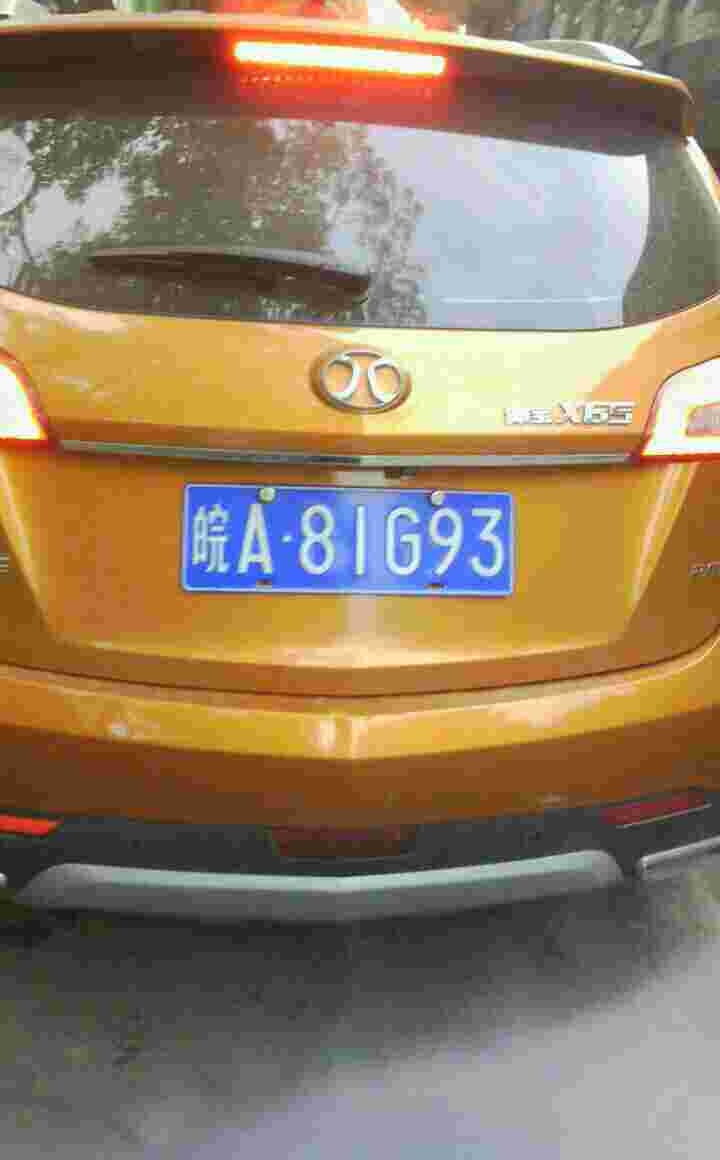license_plate: (190, 492, 523, 603)
